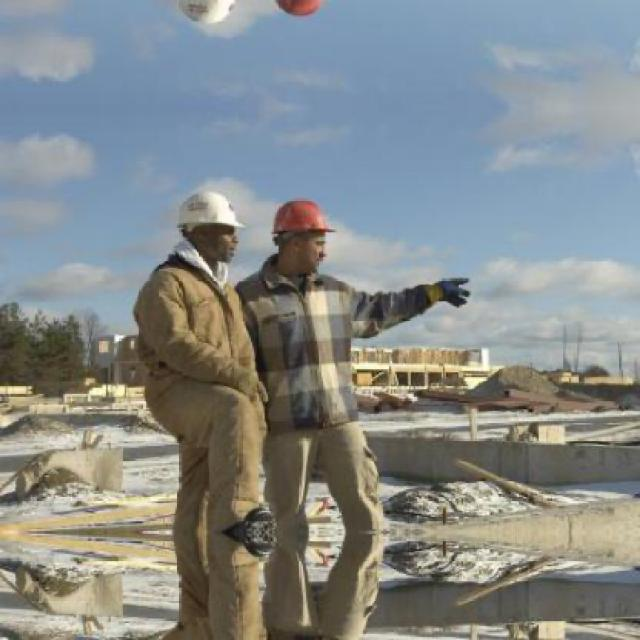helmet: (263, 189, 342, 277), (176, 182, 247, 264), (174, 0, 247, 32), (263, 0, 343, 25)
